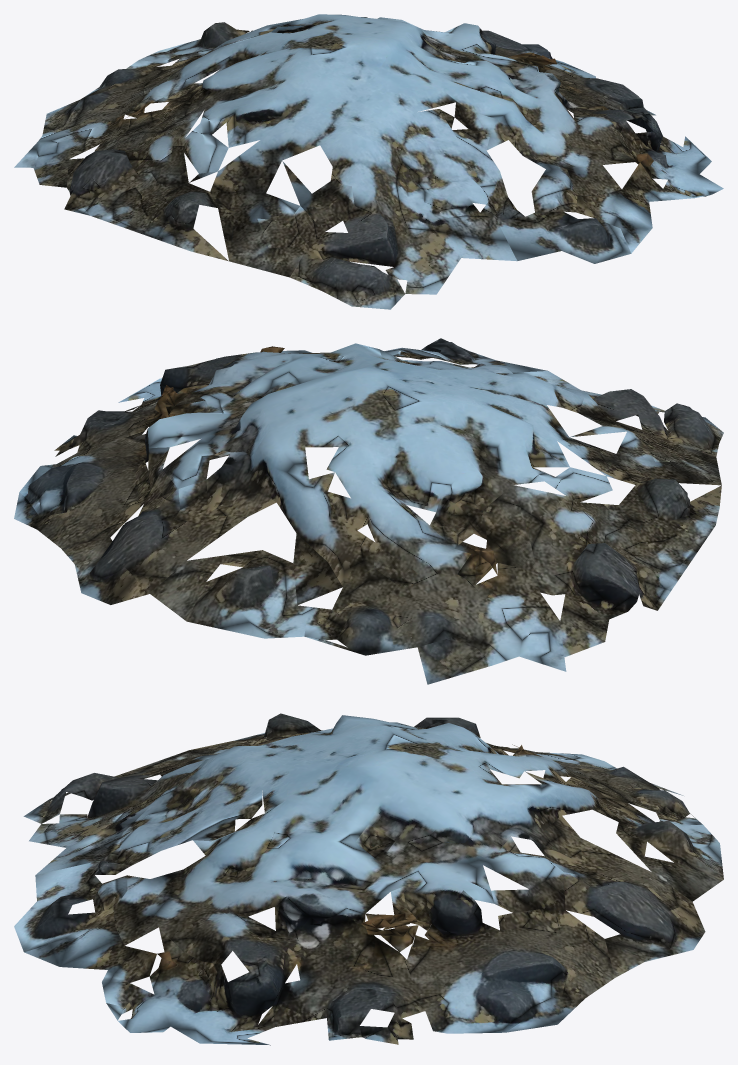
Rendered from tundra-hill-1.glb.
3 views of the same model, one above another, from view 1: azimuth 30°, elevation 25°; view 2: azimuth 150°, elevation 25°; view 3: azimuth 270°, elevation 25° (orthographic). The views are drawn at different scales.
Visible parts, largest first — view 1: geometry_0; view 2: geometry_0; view 3: geometry_0.
Part boxes in pixels (x1,y1,x2,y2): geometry_0: [14, 14, 723, 309]; geometry_0: [14, 338, 723, 684]; geometry_0: [14, 713, 723, 1045].
Size of the model in its own units: 0.9261 by 0.2024 by 0.8989.
1 material, 1 textured.
